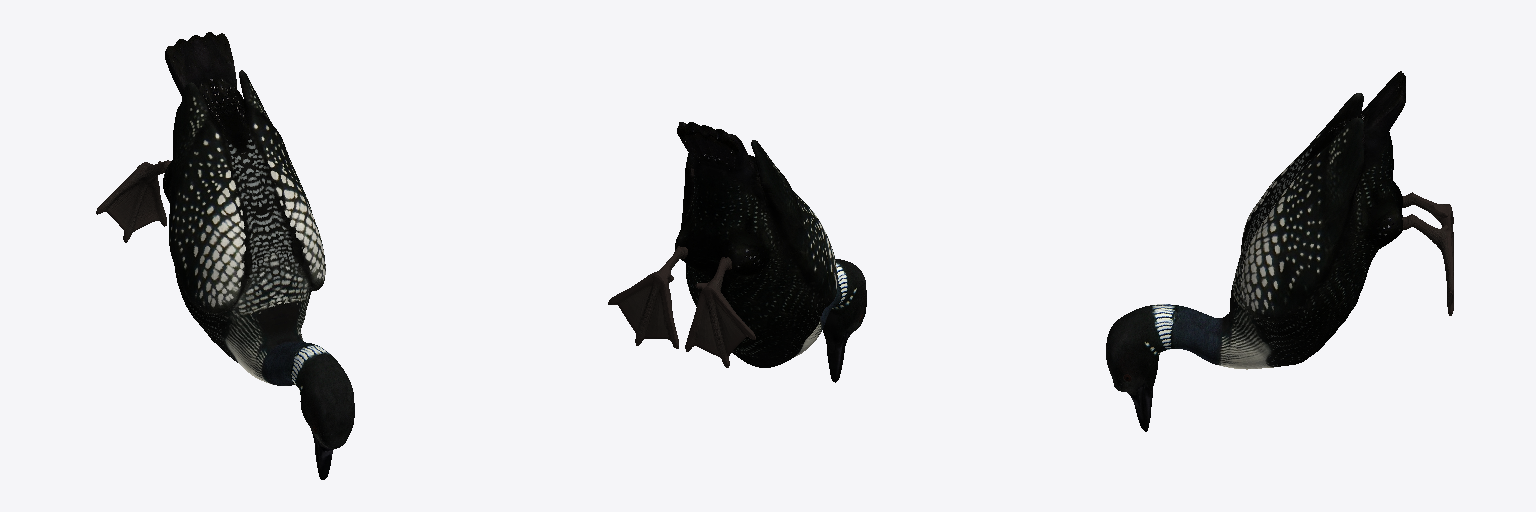
The picture shows the model from 3 angles: view 1: azimuth 30°, elevation 25°; view 2: azimuth 150°, elevation 25°; view 3: azimuth 270°, elevation 25°; orthographic projection.
Parts seen in each view (by area): view 1: 12254_loon_body; view 2: 12254_loon_body, 12254_loon_feetL; view 3: 12254_loon_body, 12254_loon_feetL.
Part boxes in pixels (x1,y1,x2,y2): 12254_loon_body: (96,32,354,479); 12254_loon_body: (675,122,866,382); 12254_loon_feetL: (608,246,687,348); 12254_loon_body: (1106,71,1453,431); 12254_loon_feetL: (1402,214,1453,315).
Bounding box in the file's own units: 23.28 × 52.65 × 47.32.
Materials: 2 (2 with a texture image).